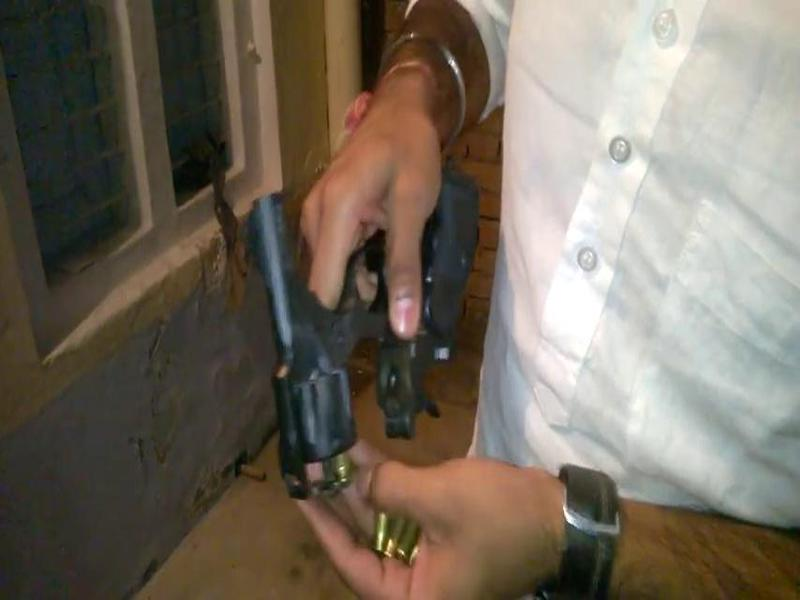Revolver: (228, 155, 387, 515)
